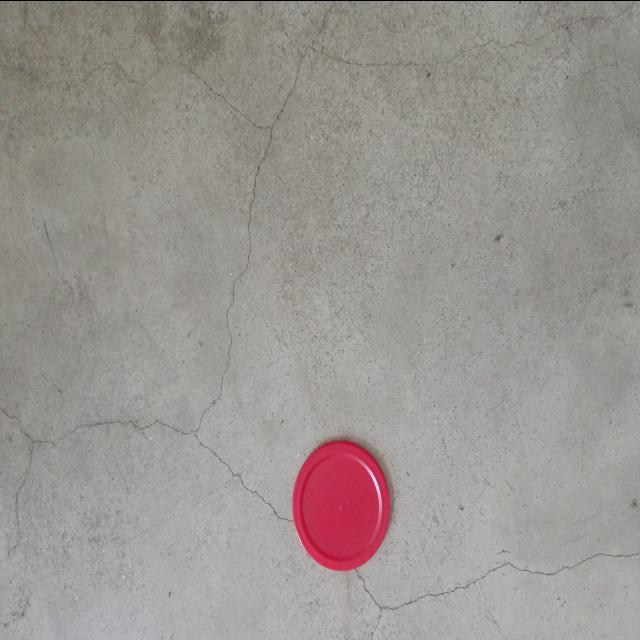chip: (292, 439, 390, 572)
